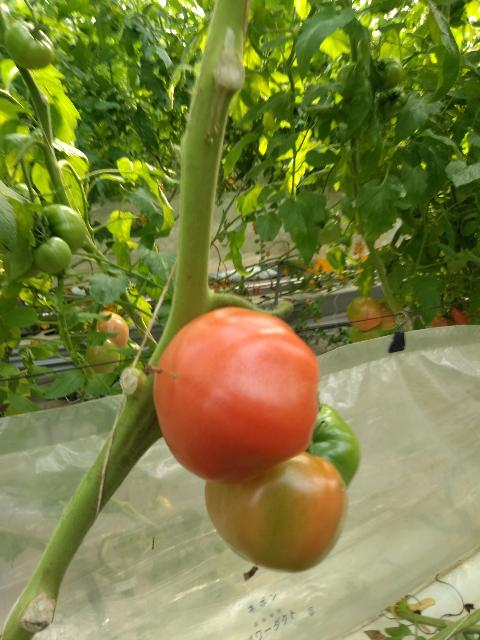b_green: (306, 404, 362, 489), (5, 21, 54, 70), (41, 204, 87, 253), (82, 336, 121, 376), (34, 235, 71, 275), (377, 56, 402, 92)
b_half_ripened: (151, 306, 319, 484), (205, 451, 347, 574), (87, 311, 129, 349), (345, 295, 382, 332), (377, 296, 403, 329)
